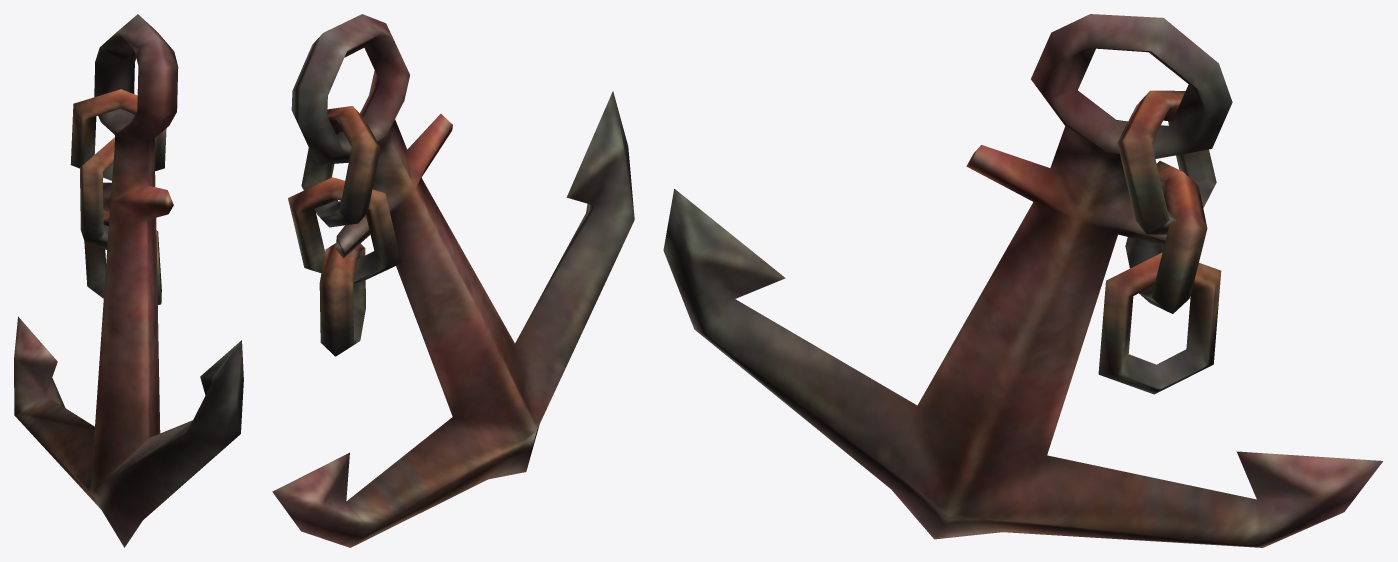
File: hallowAnchor.glb
3 renders of one model, left to right at view 1: azimuth 30°, elevation 25°; view 2: azimuth 150°, elevation 25°; view 3: azimuth 270°, elevation 25°, orthographic. The views are drawn at different scales.
Parts seen in each view (by area): view 1: hallowAnchor; view 2: hallowAnchor; view 3: hallowAnchor.
Boxes of the visible parts, bbox=[...] form: hallowAnchor: bbox=[14, 14, 243, 547]; hallowAnchor: bbox=[272, 14, 634, 547]; hallowAnchor: bbox=[663, 14, 1382, 547].
Bounding box in the file's own units: 0.3356 × 0.9952 × 1.11.
Materials: 1 (1 with a texture image).
